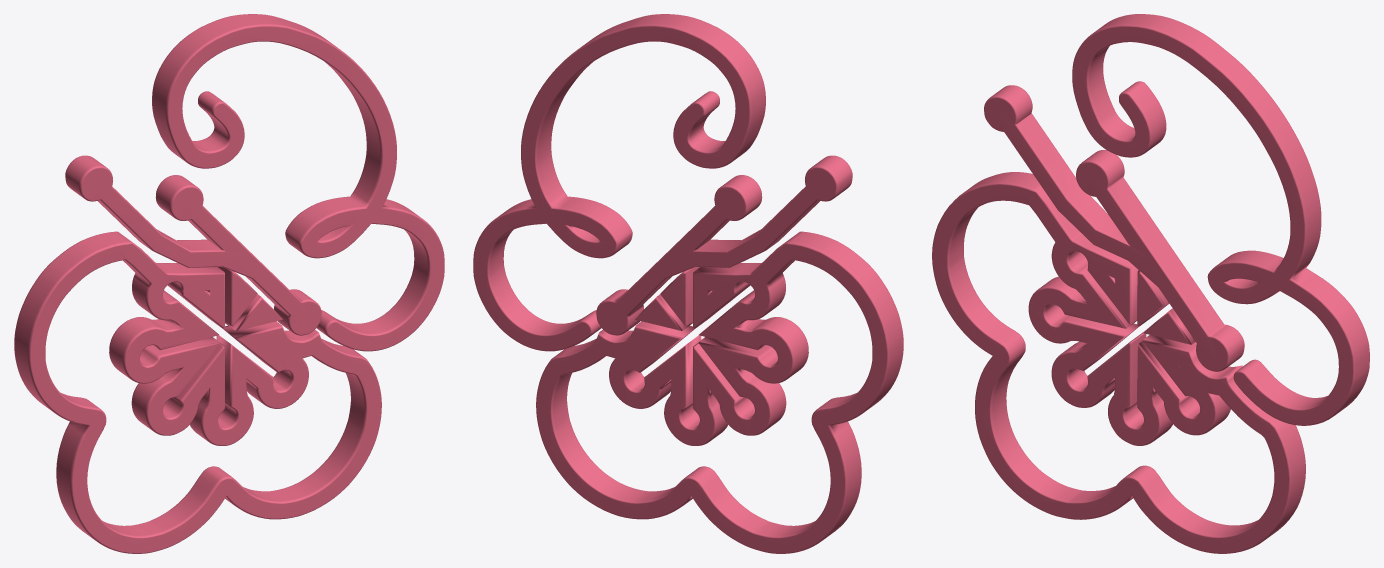
File: casc4d3-emblem.glb
3 views of the same model, side by side, from view 1: azimuth 30°, elevation 25°; view 2: azimuth 150°, elevation 25°; view 3: azimuth 330°, elevation 25° (orthographic).
Visible parts, largest first — view 1: CASC4D3 blossom circuit; view 2: CASC4D3 blossom circuit; view 3: CASC4D3 blossom circuit.
Boxes of the visible parts, bbox=[...] form: CASC4D3 blossom circuit: bbox=[14, 14, 444, 553]; CASC4D3 blossom circuit: bbox=[473, 14, 903, 553]; CASC4D3 blossom circuit: bbox=[932, 14, 1369, 553].
Size of the model in its own units: 1.74 by 2.01 by 0.117.
